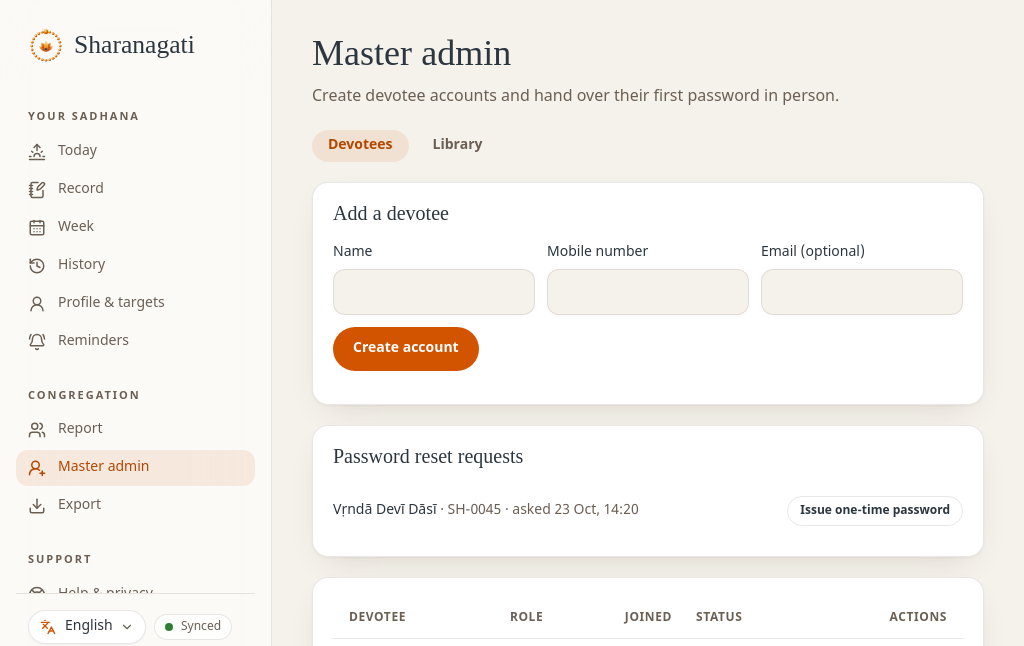
Test case: MasterAdminScreen › keeps the library on its own page, one tab away from the devotees
Expected: the element "Password reset requests" is shown, [312,425,984,557]
Click the link "Library" at [458, 146], box [433,136,482,155]
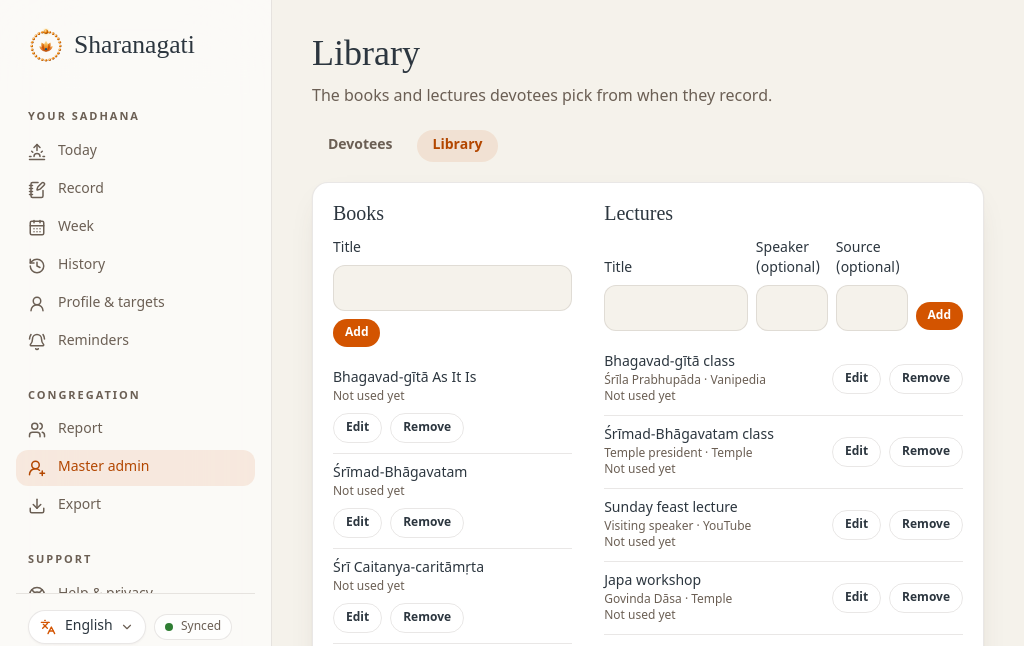
Now the heading "Library" is shown, box [312,32,420,88]
Now the heading "Password reset requests" is gone
Now the label labelled "Name" is gone
